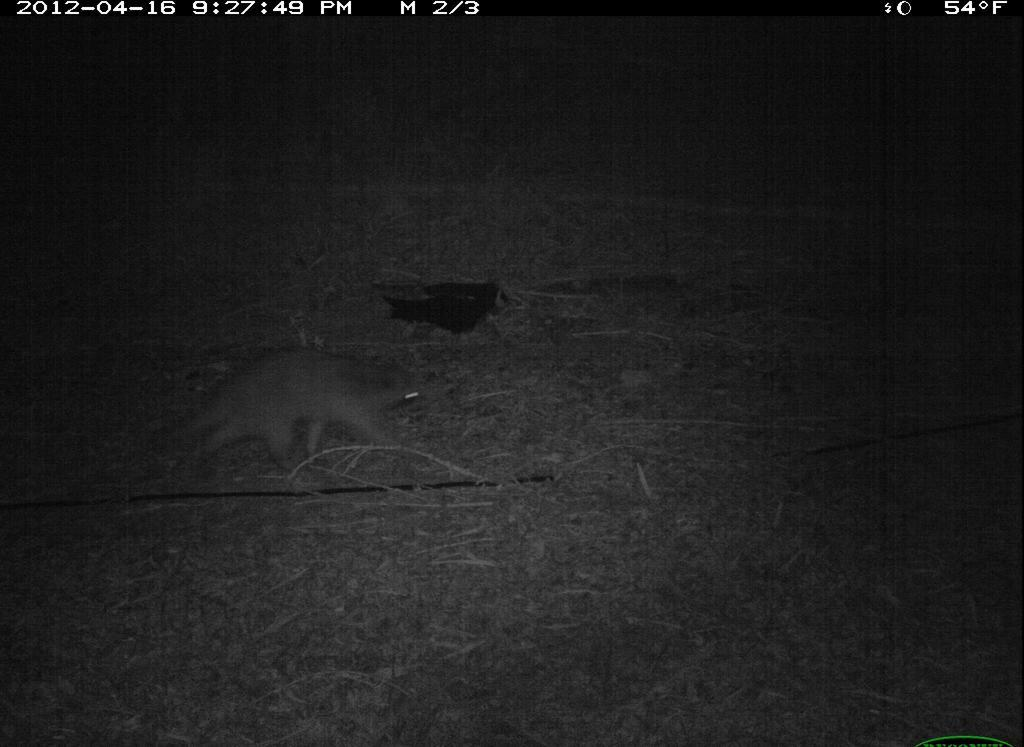raccoon: (152, 329, 461, 488)
